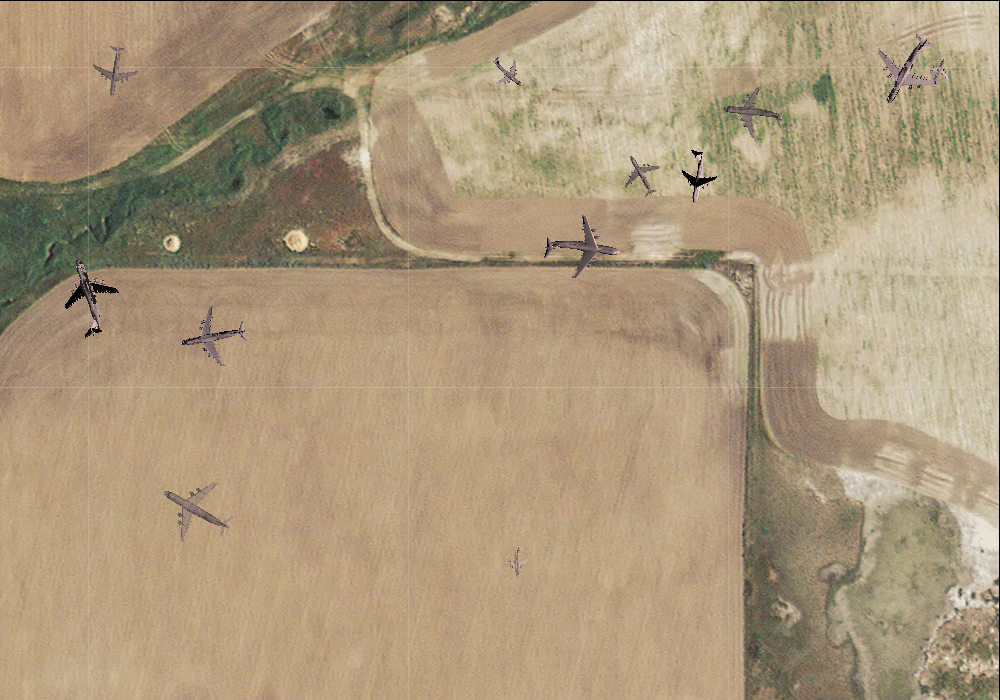plane: (857, 19, 958, 121), (146, 460, 246, 559), (40, 248, 132, 346), (539, 207, 625, 290), (174, 300, 252, 373), (719, 81, 787, 146), (612, 145, 670, 204), (669, 145, 723, 206), (86, 41, 142, 99), (482, 45, 534, 97), (921, 54, 957, 91), (503, 546, 532, 578)
